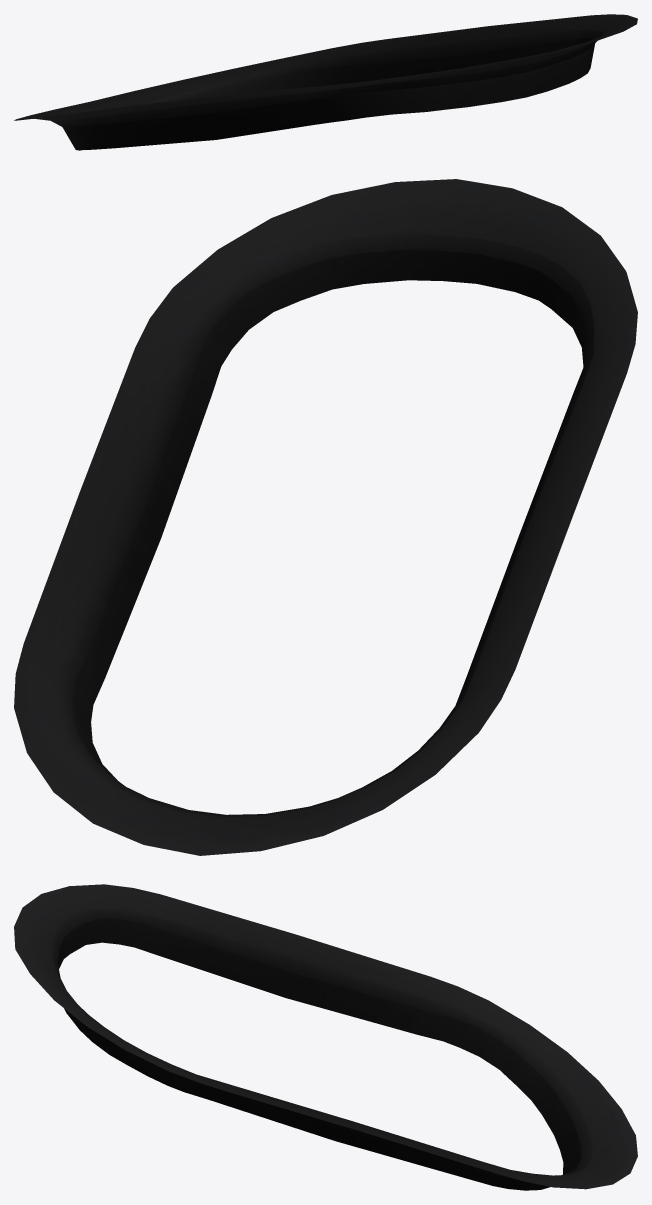
File: trackpad_scroll_cut.obj
3 views of the same model, one above another, from view 1: azimuth 30°, elevation 25°; view 2: azimuth 150°, elevation 25°; view 3: azimuth 270°, elevation 25° (orthographic). The views are drawn at different scales.
Parts seen in each view (by area): view 1: r_trackpad_scroll_cut_005; view 2: r_trackpad_scroll_cut_005; view 3: r_trackpad_scroll_cut_005.
Part boxes in pixels (left/top/right/bottom): r_trackpad_scroll_cut_005: left=14, top=14, right=637, bottom=150; r_trackpad_scroll_cut_005: left=14, top=179, right=637, bottom=855; r_trackpad_scroll_cut_005: left=14, top=884, right=637, bottom=1190.
Size of the model in its own units: 0.0191 by 0.0121 by 0.0266.
Materials: 1 (1 with a texture image).
